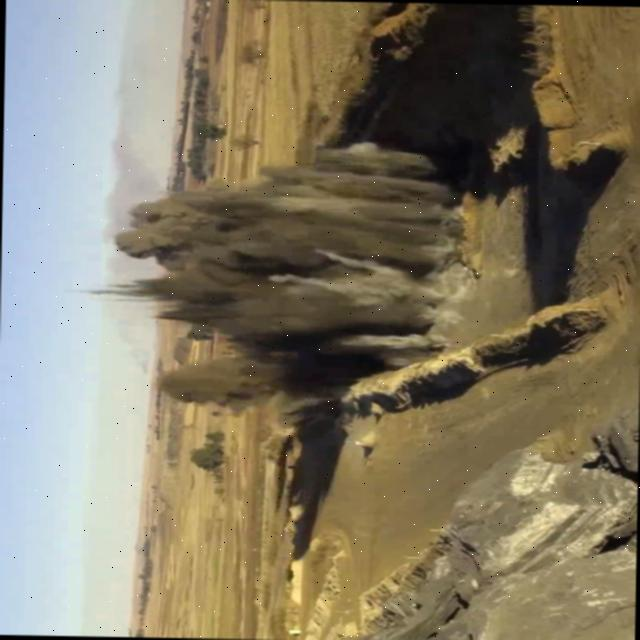explosion: (61, 94, 527, 463)
